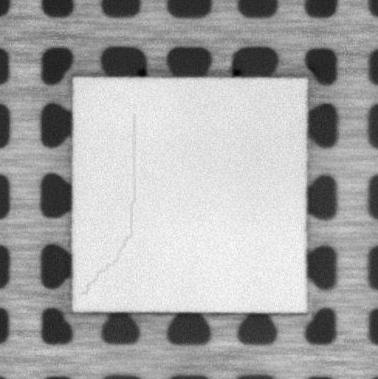DIE_CRACK: (82, 115, 137, 295)
